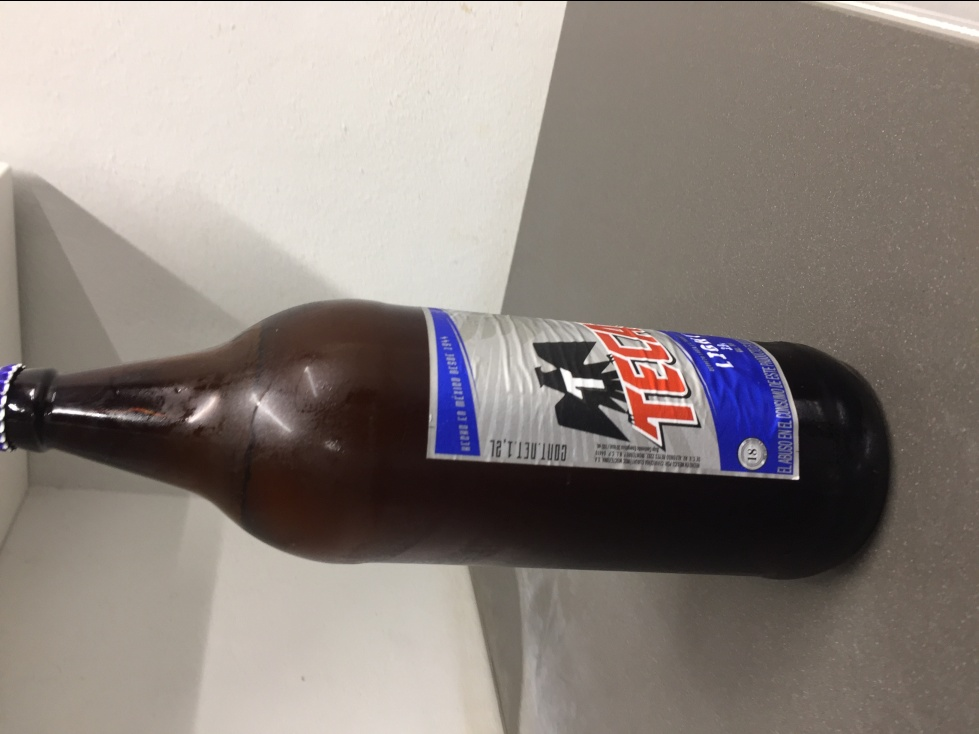tecateC: (8, 295, 887, 582)
